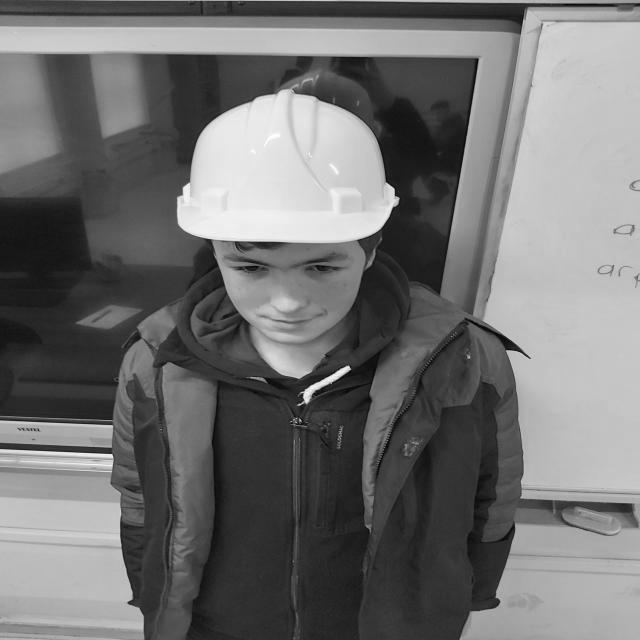construction helmet: (175, 92, 399, 247)
